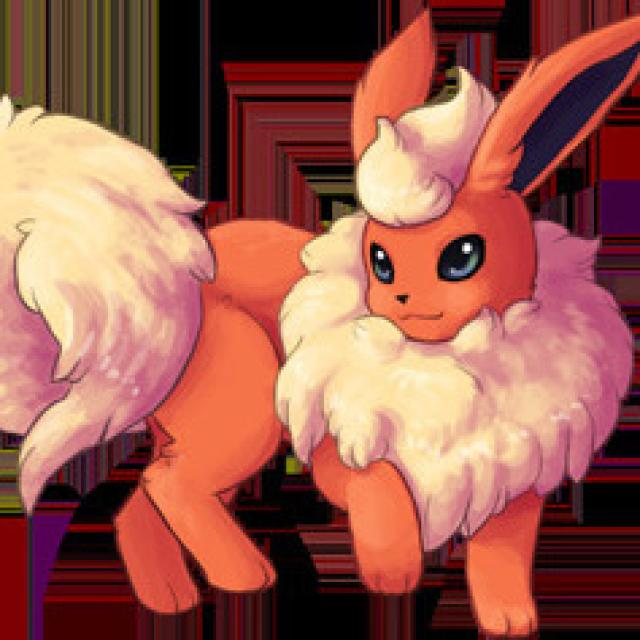Flareon: (144, 79, 563, 611)
